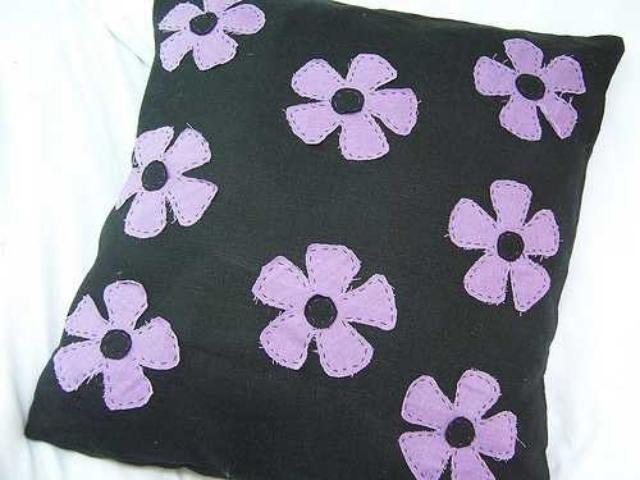pillow: (22, 0, 624, 478)
